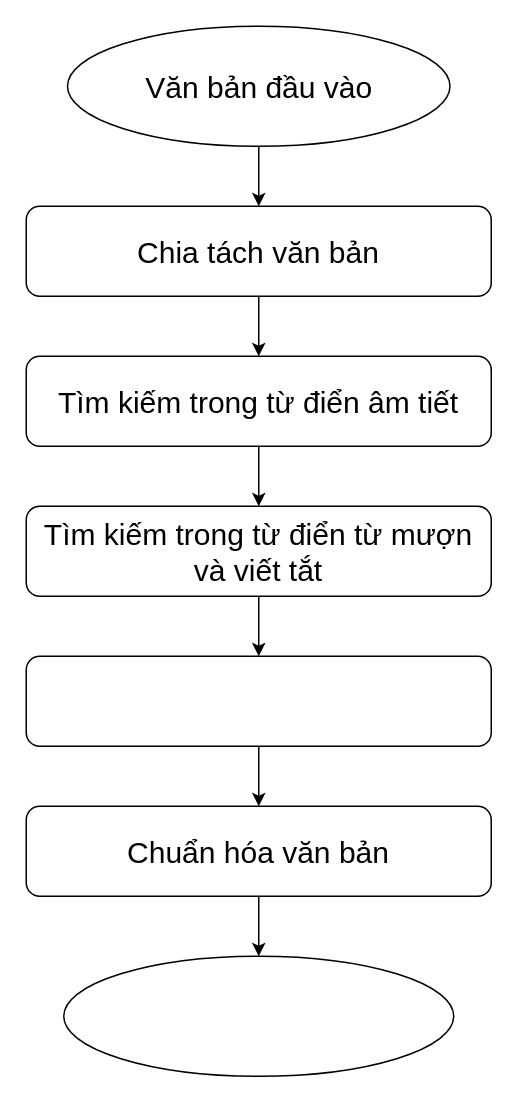
The diagram is 518 pixels wide and 1103 high, and some of its shapes have lost their labels. Here are the shapes that lost their labels. From the top down, the box of each, then its label:
(25, 655, 491, 746): Sử dụng biểu thức chính quy
(62, 955, 454, 1076): Văn bản được chuẩn hóa
